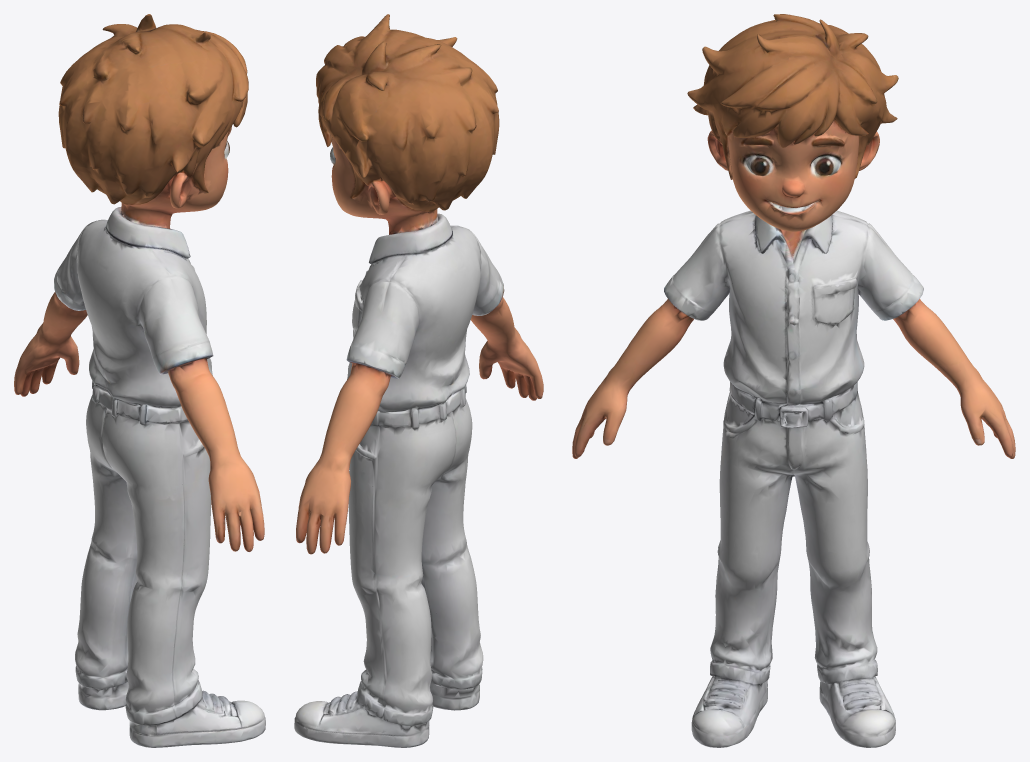
Rendered from boy.glb.
The picture shows the model from 3 angles, left to right: view 1: azimuth 30°, elevation 25°; view 2: azimuth 150°, elevation 25°; view 3: azimuth 270°, elevation 25°; orthographic projection. The views are drawn at different scales.
Parts seen in each view (by area): view 1: tripo_node_8b270887-2d3d-499f-bc10-9c9fa4923236; view 2: tripo_node_8b270887-2d3d-499f-bc10-9c9fa4923236; view 3: tripo_node_8b270887-2d3d-499f-bc10-9c9fa4923236.
Boxes of the visible parts, <box> form: tripo_node_8b270887-2d3d-499f-bc10-9c9fa4923236: <box>14,14,265,747</box>; tripo_node_8b270887-2d3d-499f-bc10-9c9fa4923236: <box>294,14,543,747</box>; tripo_node_8b270887-2d3d-499f-bc10-9c9fa4923236: <box>572,14,1015,747</box>.
Bounding box in the file's own units: 0.2632 × 0.9991 × 0.5753.
Materials: 1 (1 with a texture image).
